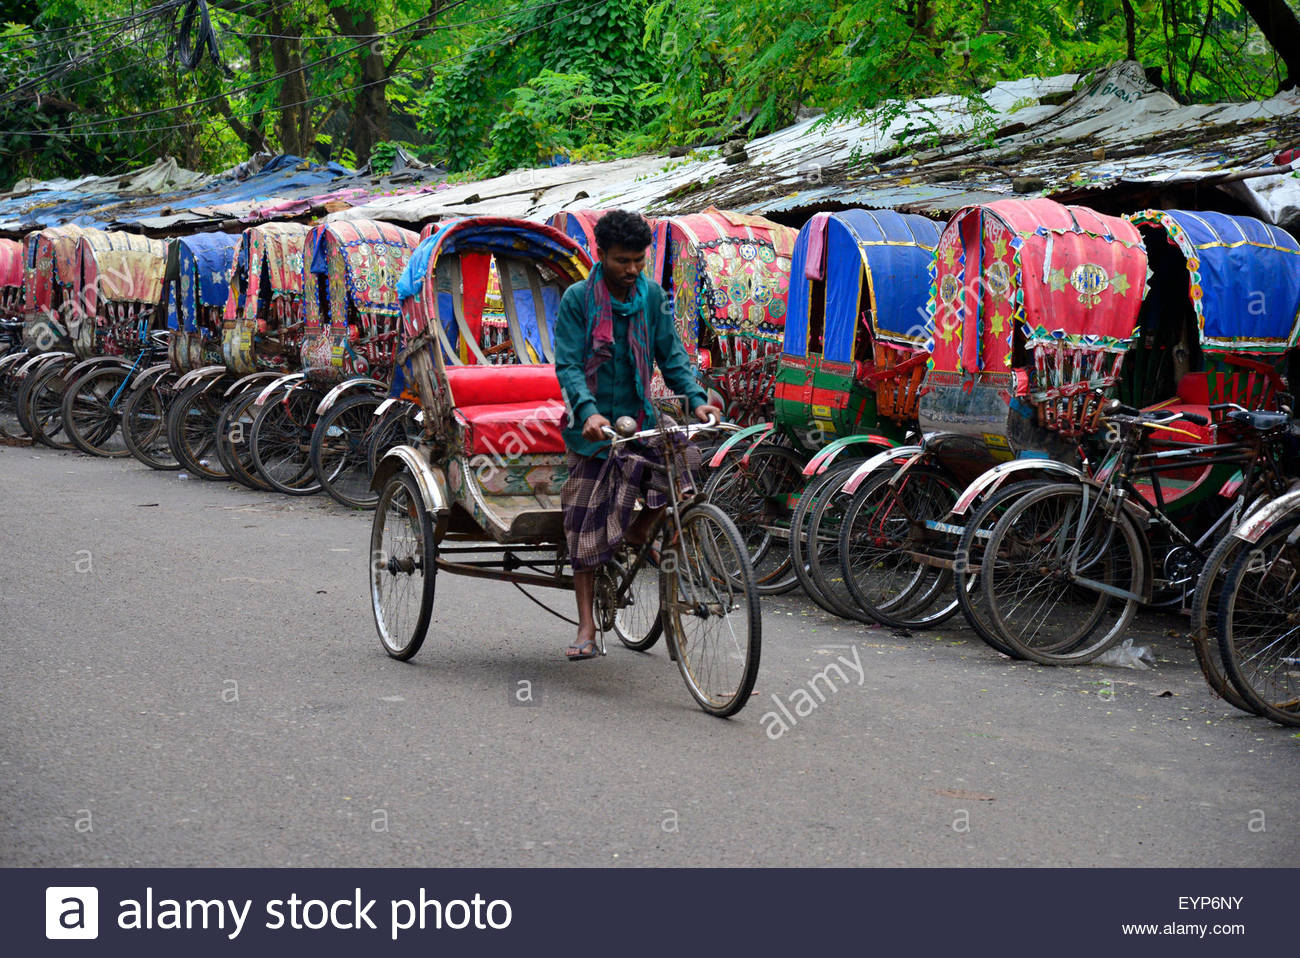Rickshaw: (401, 210, 751, 745), (932, 178, 1145, 696), (756, 177, 968, 666), (1136, 186, 1299, 669), (647, 181, 789, 599), (153, 214, 270, 529), (307, 192, 417, 511), (73, 202, 177, 460), (219, 208, 310, 469), (28, 208, 101, 436)
